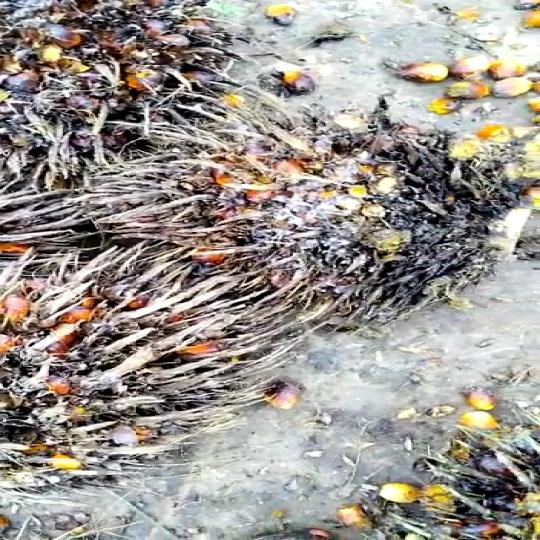terlalu masak: (83, 106, 500, 318), (0, 250, 320, 513)
